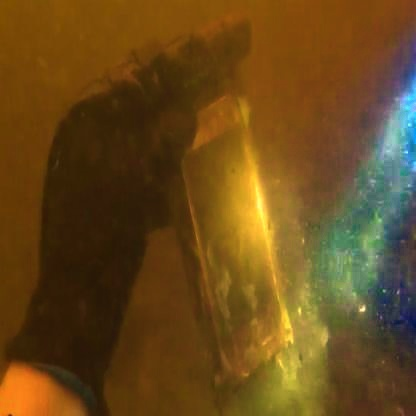cellphone: (181, 95, 287, 378)
